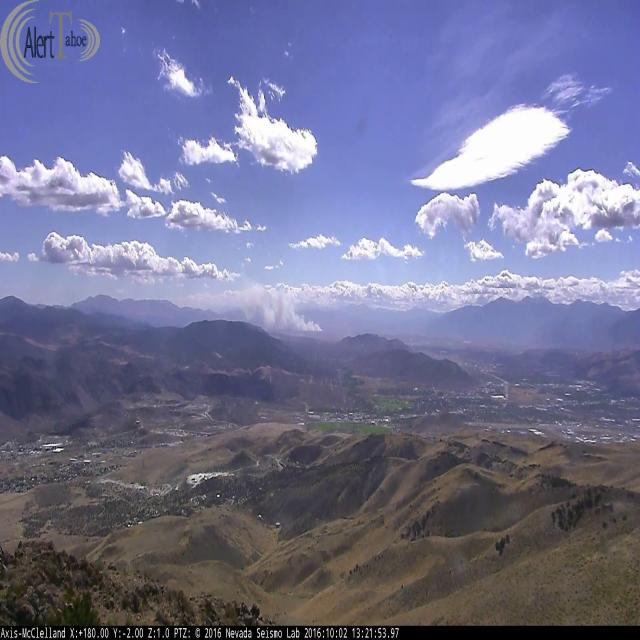smoke: (242, 283, 323, 333)
